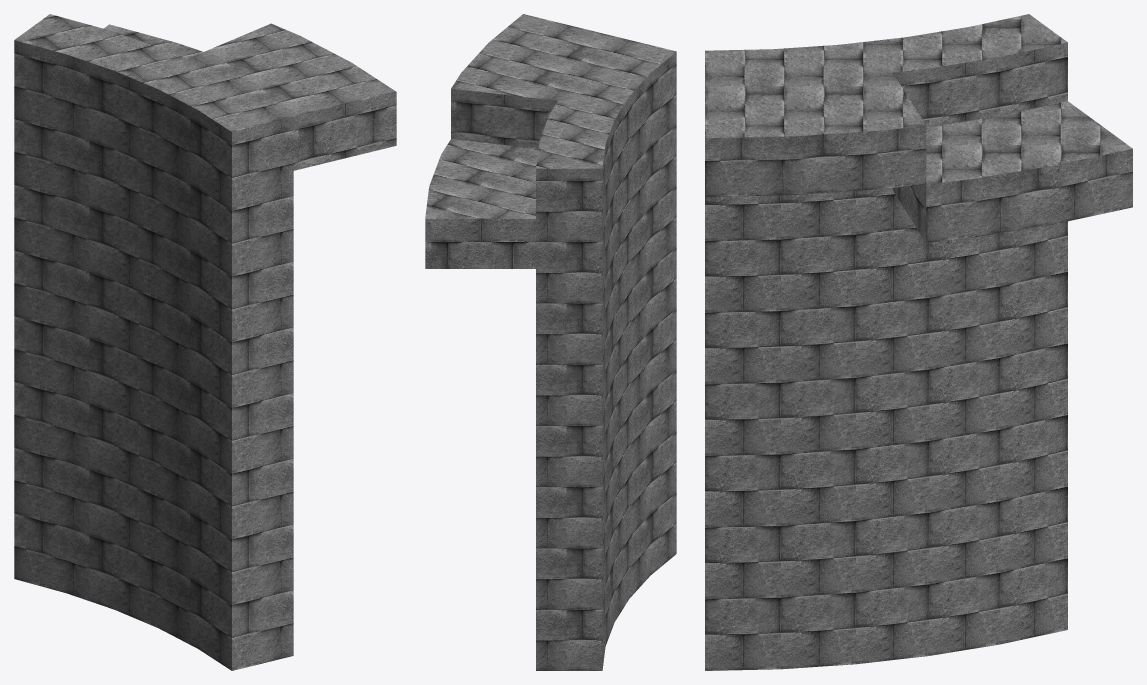
Rendered from tile8.dae.
3 views of the same model, side by side, from view 1: azimuth 30°, elevation 25°; view 2: azimuth 150°, elevation 25°; view 3: azimuth 270°, elevation 25° (orthographic). The views are drawn at different scales.
Parts seen in each view (by area): view 1: SketchUp; view 2: SketchUp (×2); view 3: SketchUp.
Part boxes in pixels (bbox=[...]): SketchUp: bbox=[14, 14, 396, 670]; SketchUp (×2): bbox=[425, 14, 676, 670]; SketchUp: bbox=[705, 14, 1132, 670].
Size of the model in its own units: 44.68 by 64.96 by 98.43.
1 material, 1 textured.
